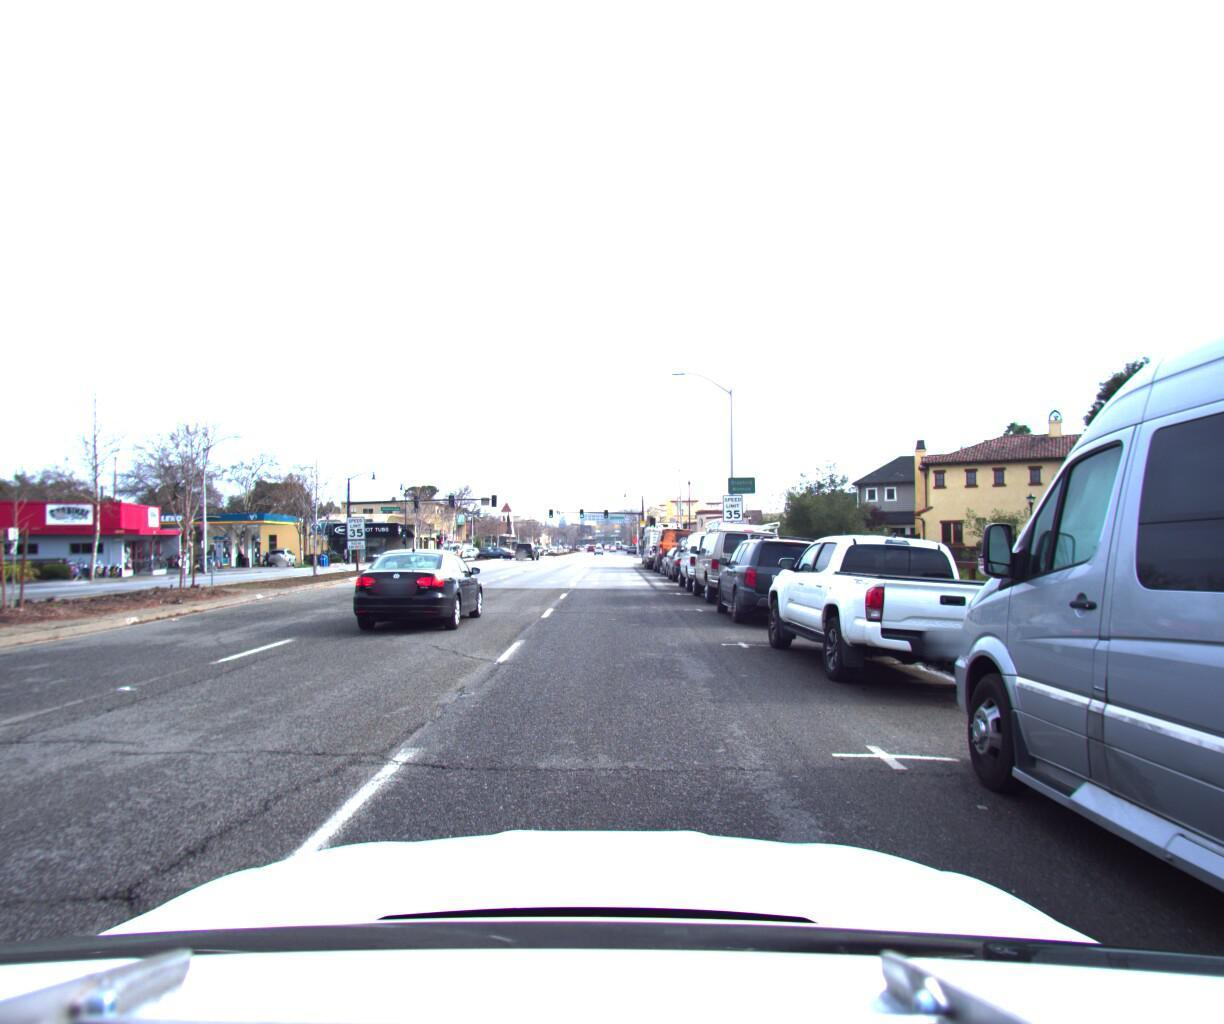car: (753, 526, 1042, 709), (345, 539, 490, 633), (710, 526, 841, 625), (689, 508, 790, 603), (675, 520, 751, 587), (651, 518, 697, 565), (666, 538, 714, 577), (659, 535, 703, 569), (266, 539, 299, 559), (516, 532, 535, 551)
other_vehicle: (641, 513, 689, 564)
